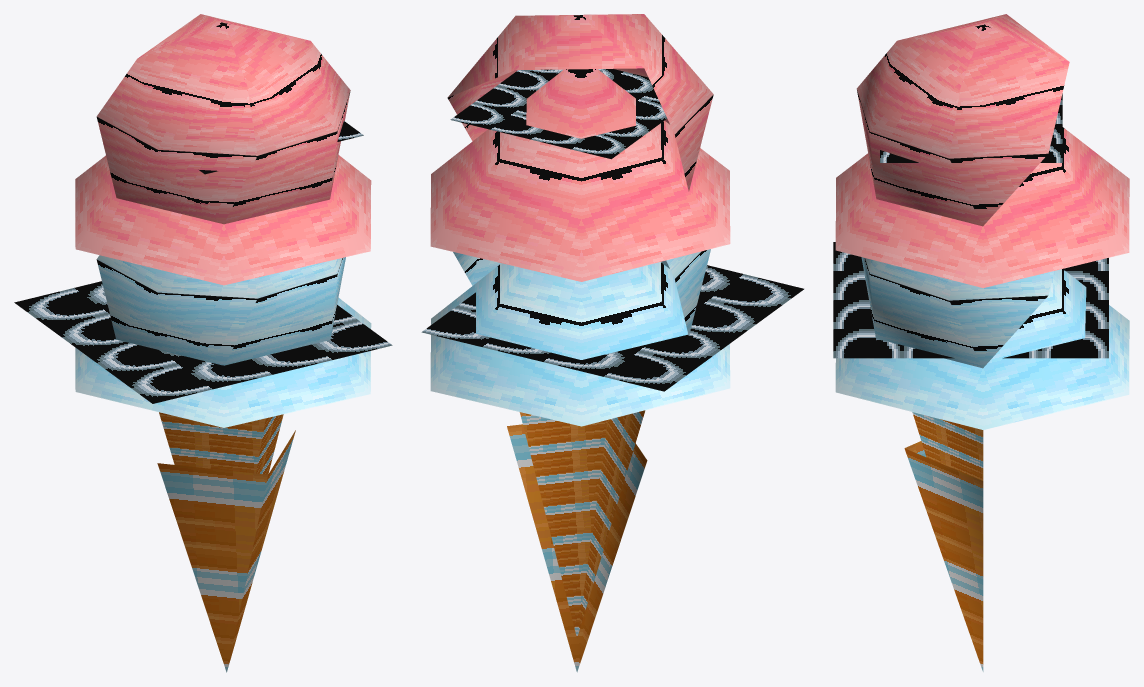
The model's file is 5608u_ice00_hs.gltf.
The picture shows the model from 3 angles, left to right: view 1: azimuth 30°, elevation 25°; view 2: azimuth 150°, elevation 25°; view 3: azimuth 270°, elevation 25°; orthographic projection.
Visible parts, largest first — view 1: 5608u_ice00_hs; view 2: 5608u_ice00_hs; view 3: 5608u_ice00_hs.
Boxes of the visible parts, <box> form: 5608u_ice00_hs: <box>14,14,392,672</box>; 5608u_ice00_hs: <box>421,14,803,672</box>; 5608u_ice00_hs: <box>833,14,1129,671</box>.
Bounding box in the file's own units: 0.4375 × 0.9199 × 0.3818.
Materials: 6 (6 with a texture image).
